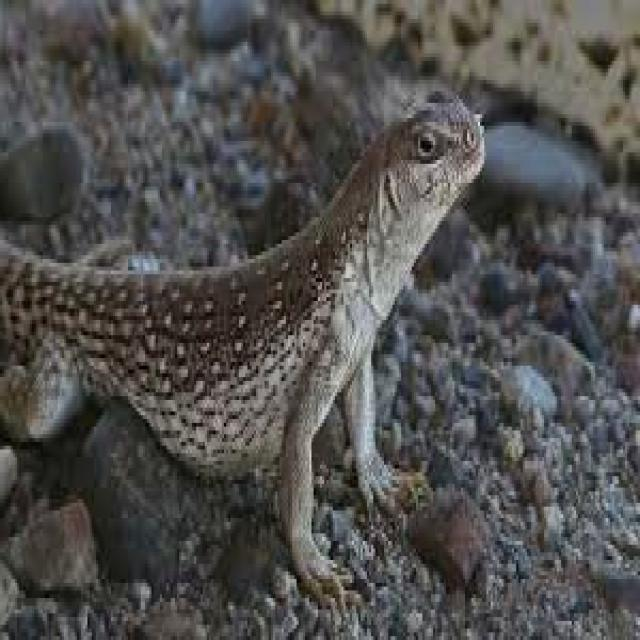lizard: (2, 99, 482, 590)
